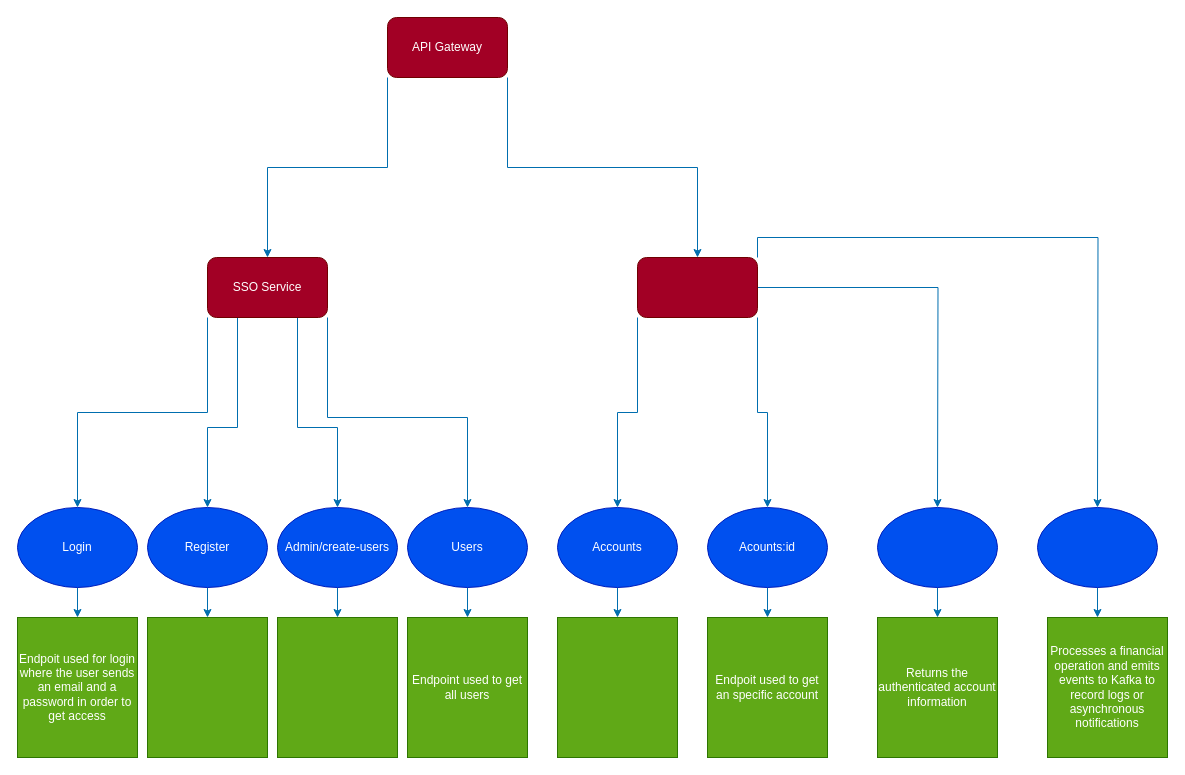
Image size: 1185x775. Some labels were removed from this diagram. The centre of each missing label's shape, as x and y in pixels:
"Endpoint used by an Administrator to register an user and assign them a rol" goes at (x=337, y=687).
"Endpoint used to register a client using an email and a password" goes at (x=207, y=687).
"Endpoit used to get all accounts" goes at (x=617, y=687).
"Finance Service" goes at (x=697, y=287).
"my-account" goes at (x=937, y=547).
"operation" goes at (x=1097, y=547).
